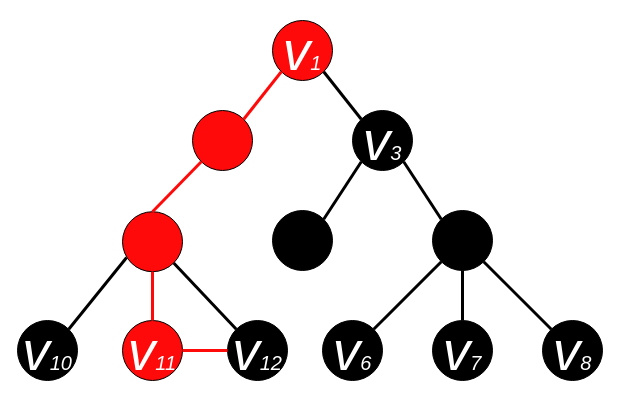
Image size: 620x400. Some labels were removed from this diagram. Here are the shapes that lost their labels. From the top down, the box of each, then its label:
(192, 110, 252, 170): v 2
(122, 211, 182, 272): v 9
(272, 210, 332, 270): v 4
(432, 210, 492, 270): v 5
